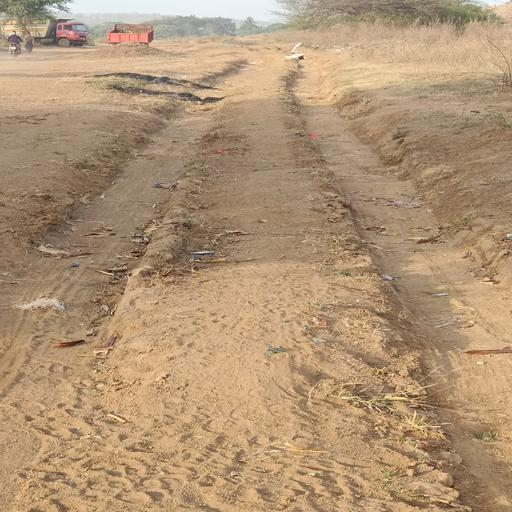vehicle_track: (290, 76, 512, 512), (0, 115, 218, 512)
